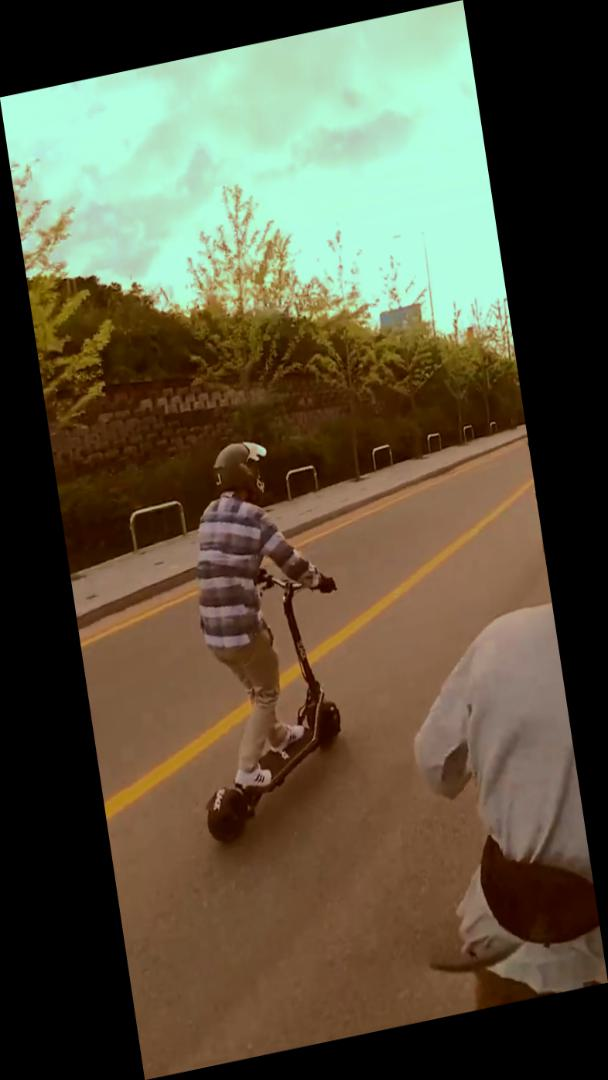helmet: (150, 419, 375, 856)
